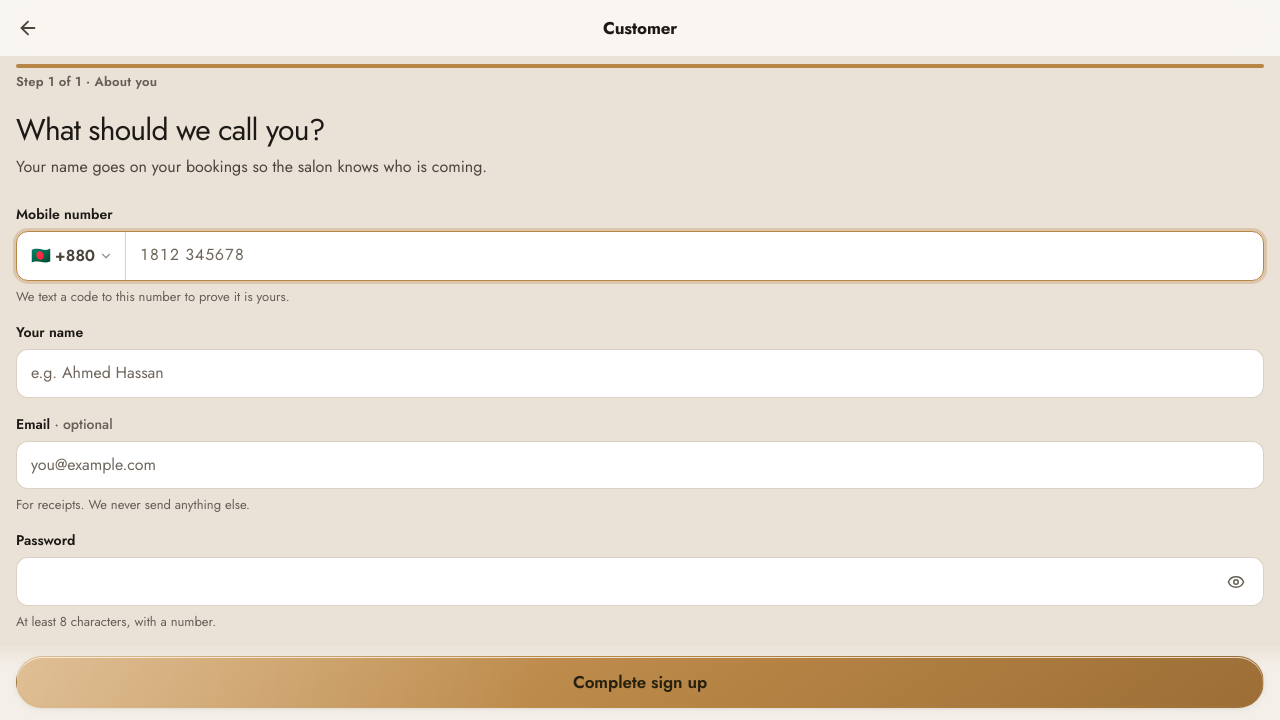
Test: what goes on the wire › says a number is taken the way the server actually says it
Type "1712345678" into the field labelled "Mobile number" at (694, 256), box [126,232,1263,280]
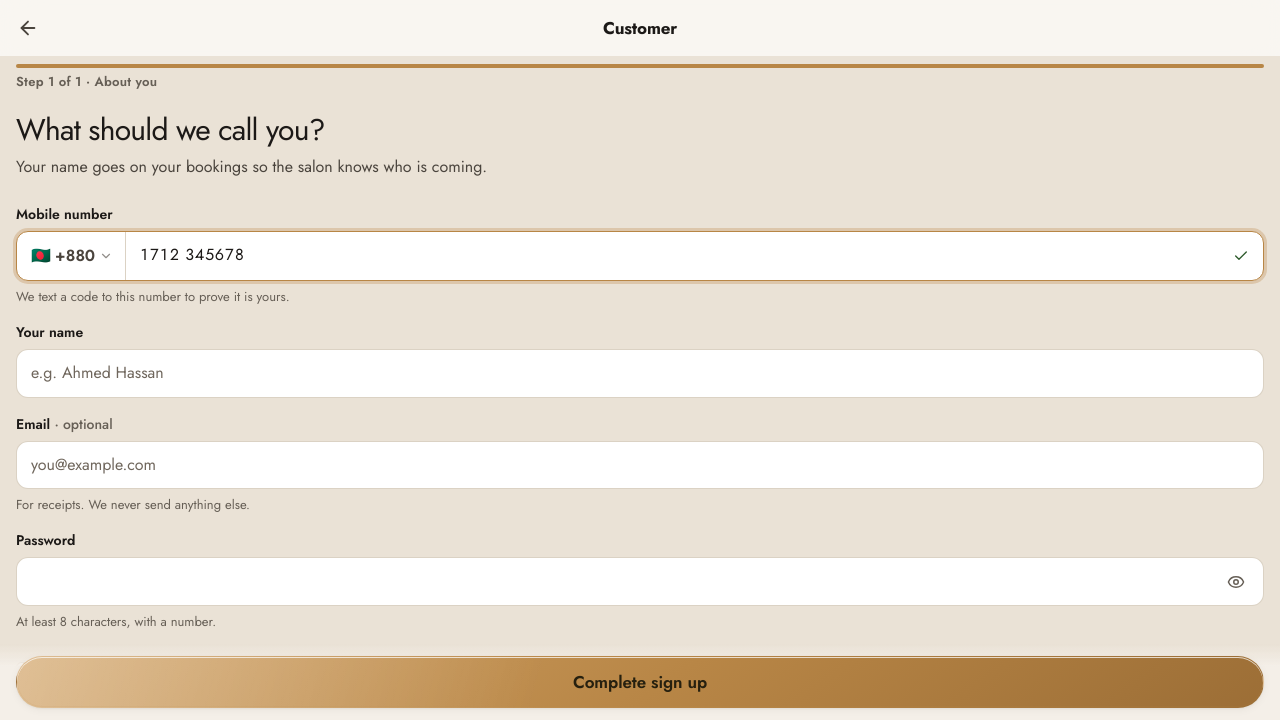
Type "Test Person" into the field labelled "Your name" at (640, 373), box [16,349,1264,398]
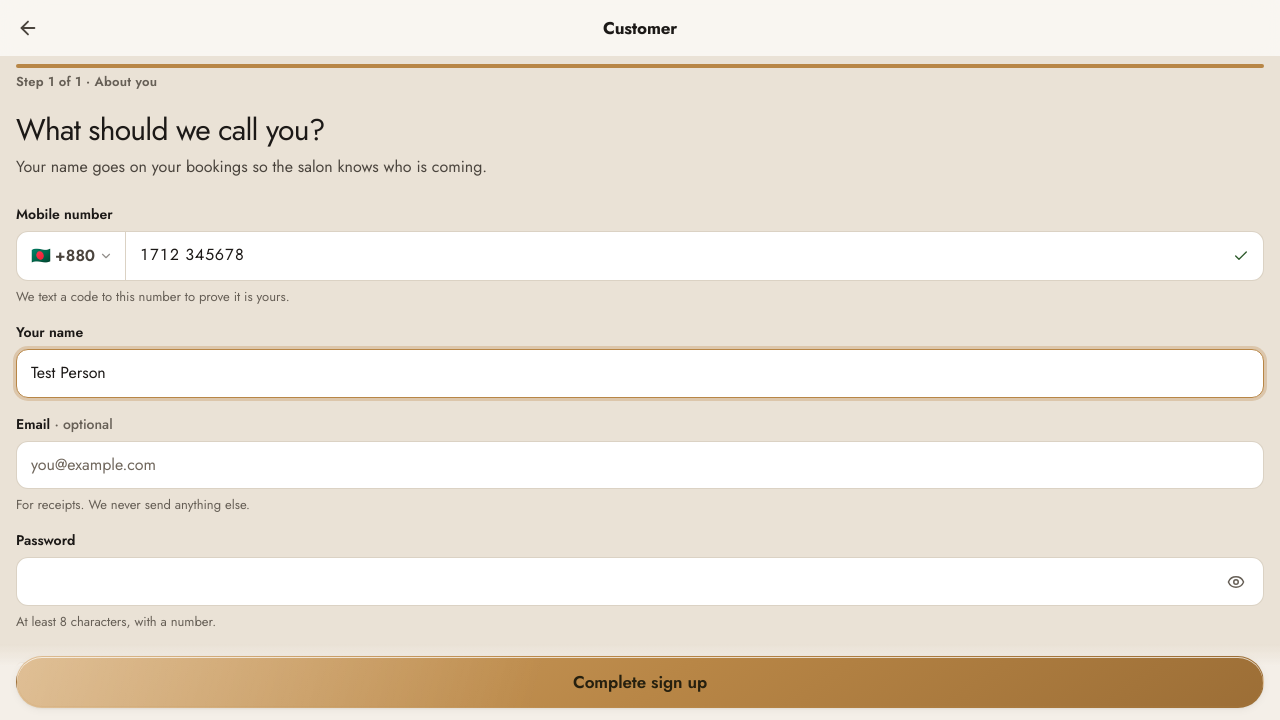
Type "Passw0rd99" into the password field labelled "Password" at (640, 582), box [16,558,1264,606]
(page scrolled)
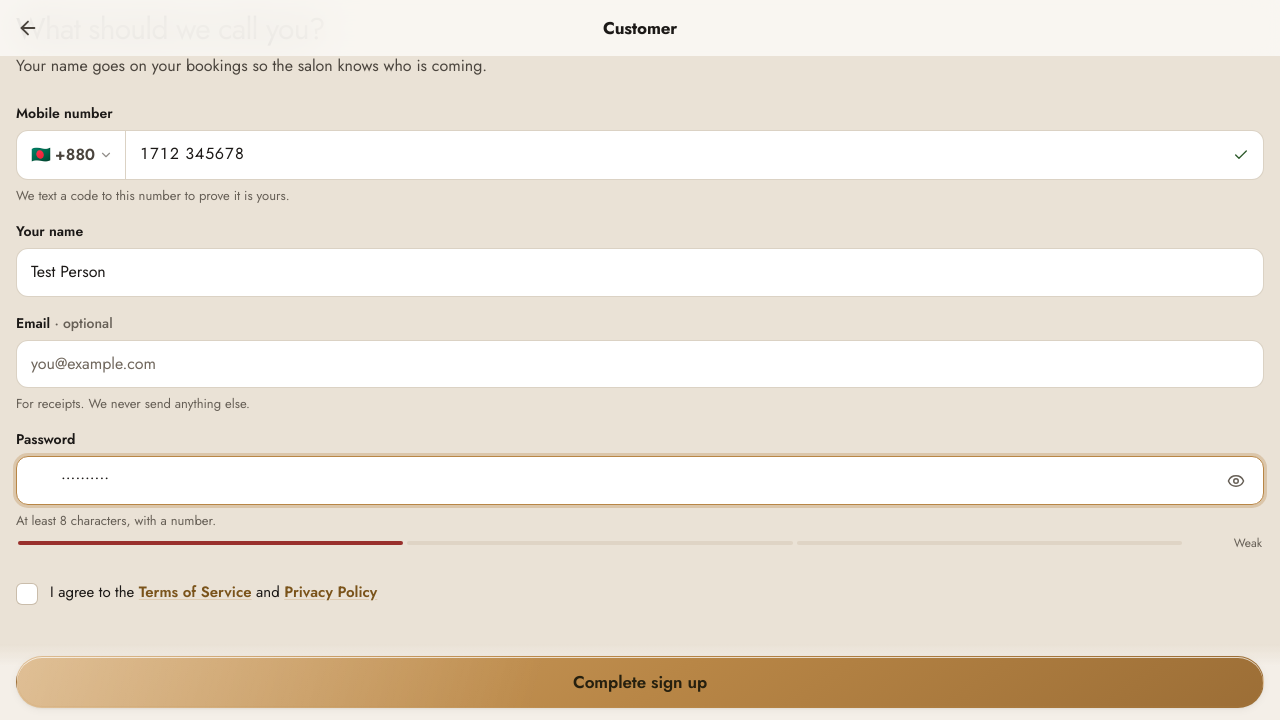
Click the checkbox at (197, 593), box [16,581,377,605]
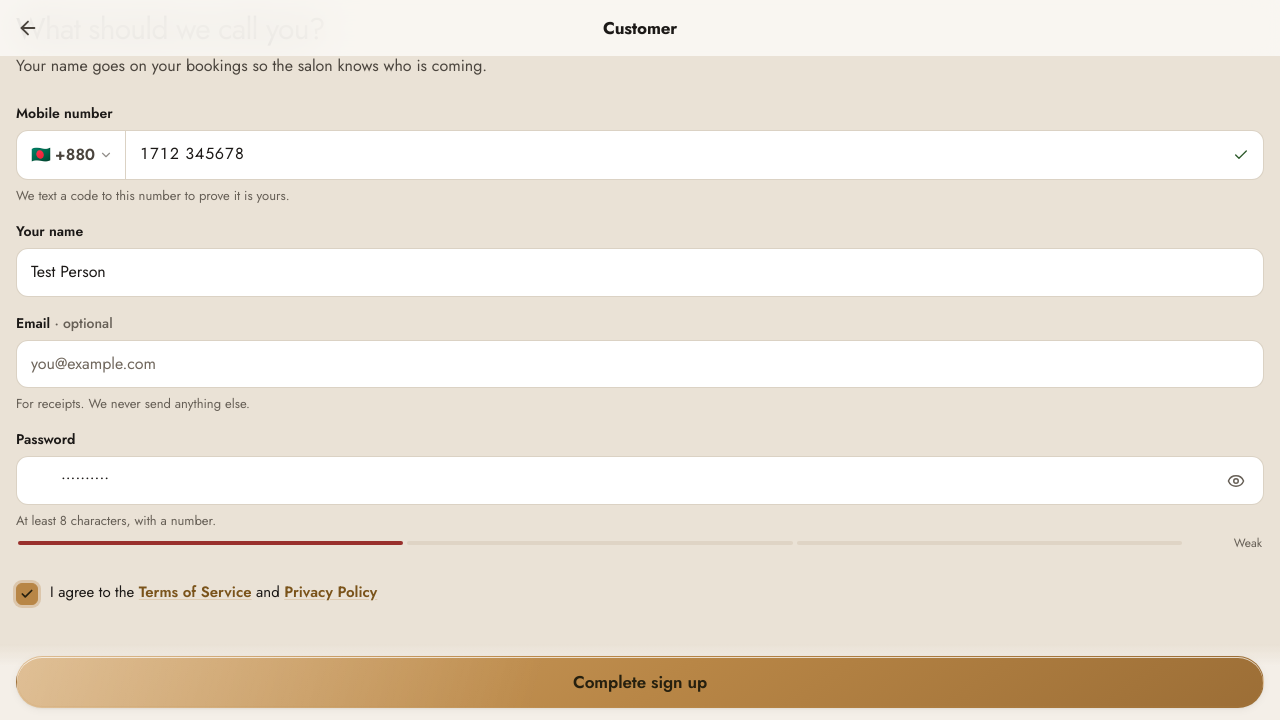
Click the button "Complete sign up" at (640, 682), box [16,656,1264,708]
(page scrolled)
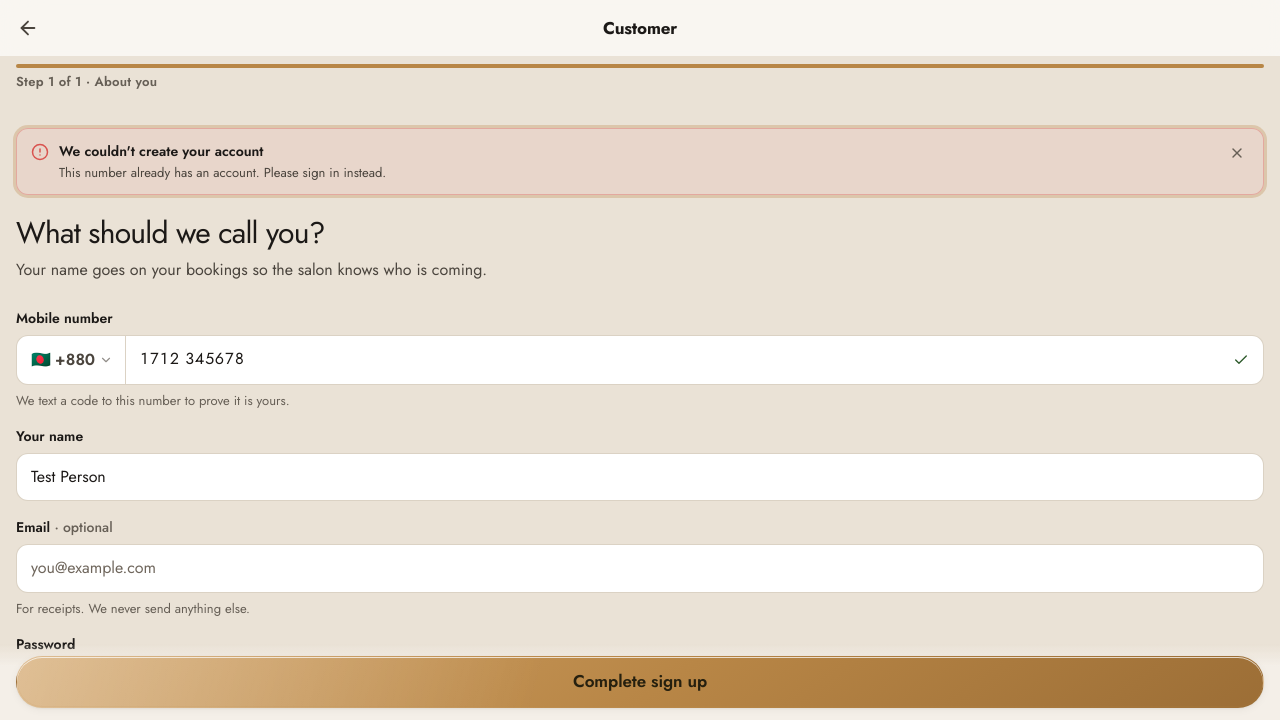
expect the message shows "We couldn't create your account": met, box [59,140,264,160]
expect the message shows "This number already has an account. Please sign in instead.": met, box [59,162,386,182]
Click the button named "Close" at (1237, 152), box [1215,130,1259,174]
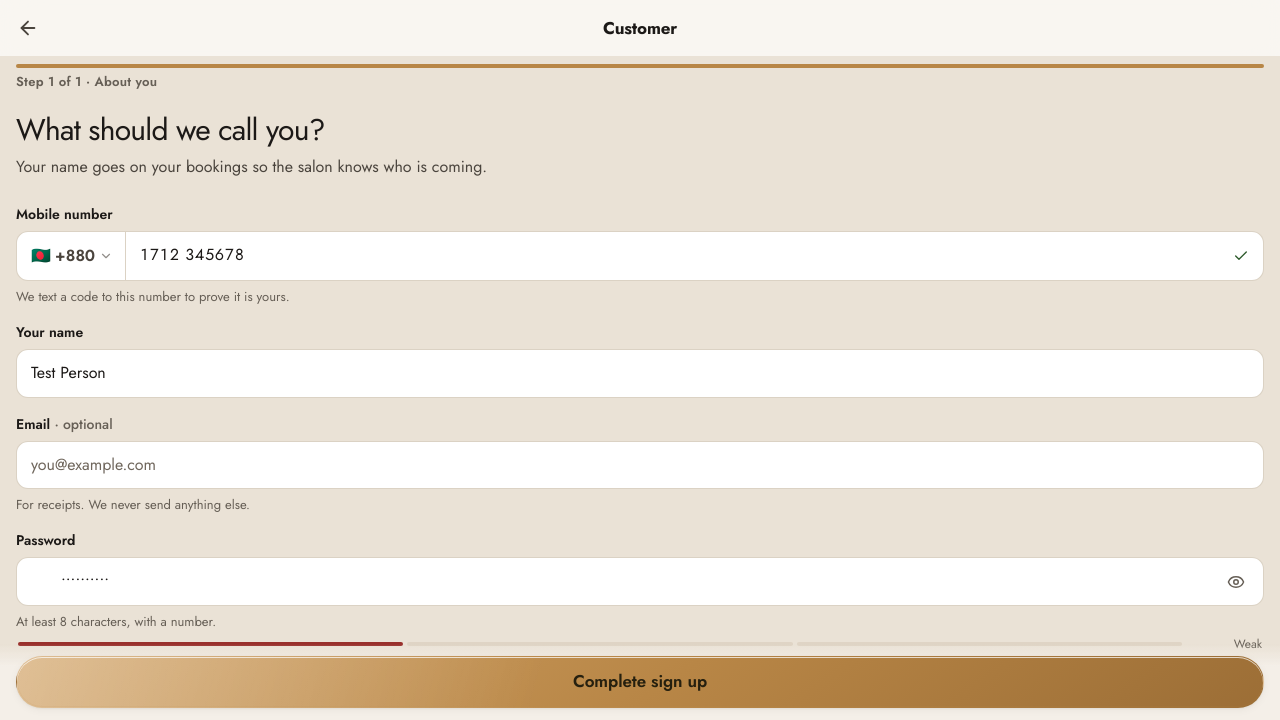
expect the button "Complete sign up" is enabled: met, box [16,656,1264,708]
expect the message "We couldn't create your account This number already has an account. Please sign" is gone: met
